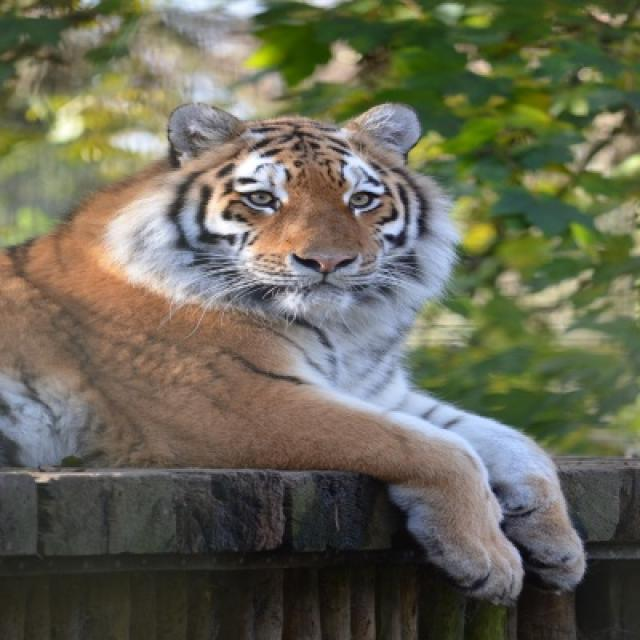Tiger: (0, 101, 583, 606)
